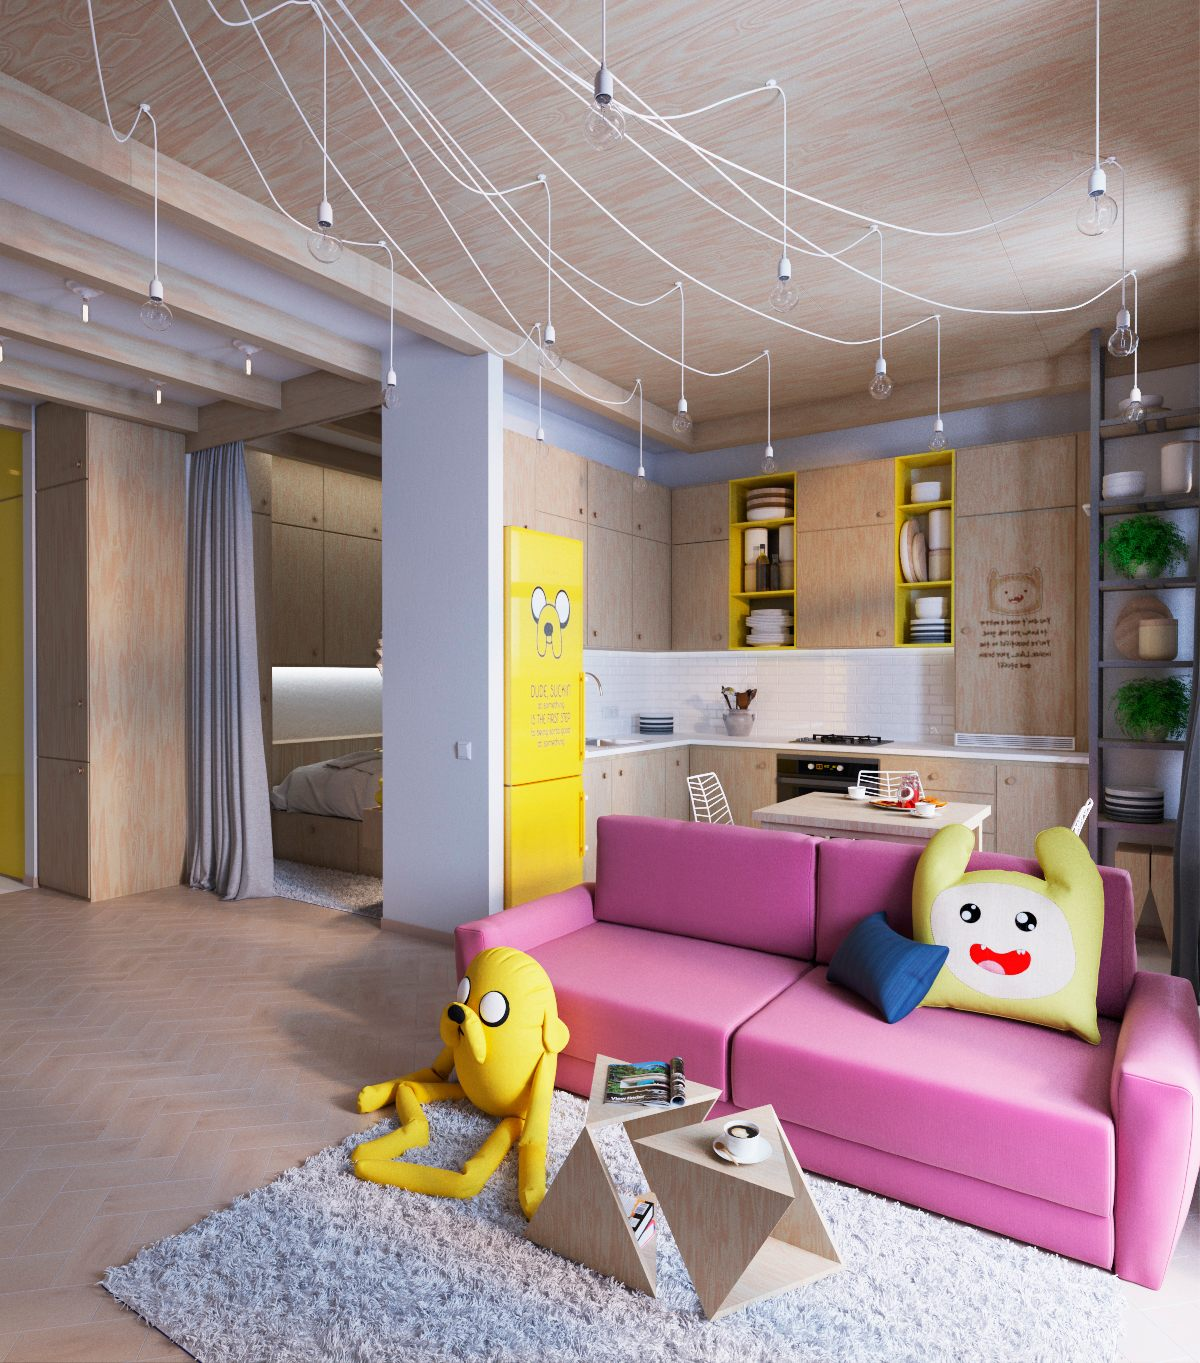biru: (831, 914, 937, 1011)
kuning: (414, 943, 553, 1136)
pink: (541, 841, 1200, 1237)
putih: (1101, 468, 1146, 500), (723, 1124, 761, 1161), (910, 479, 943, 506), (914, 596, 950, 620)
